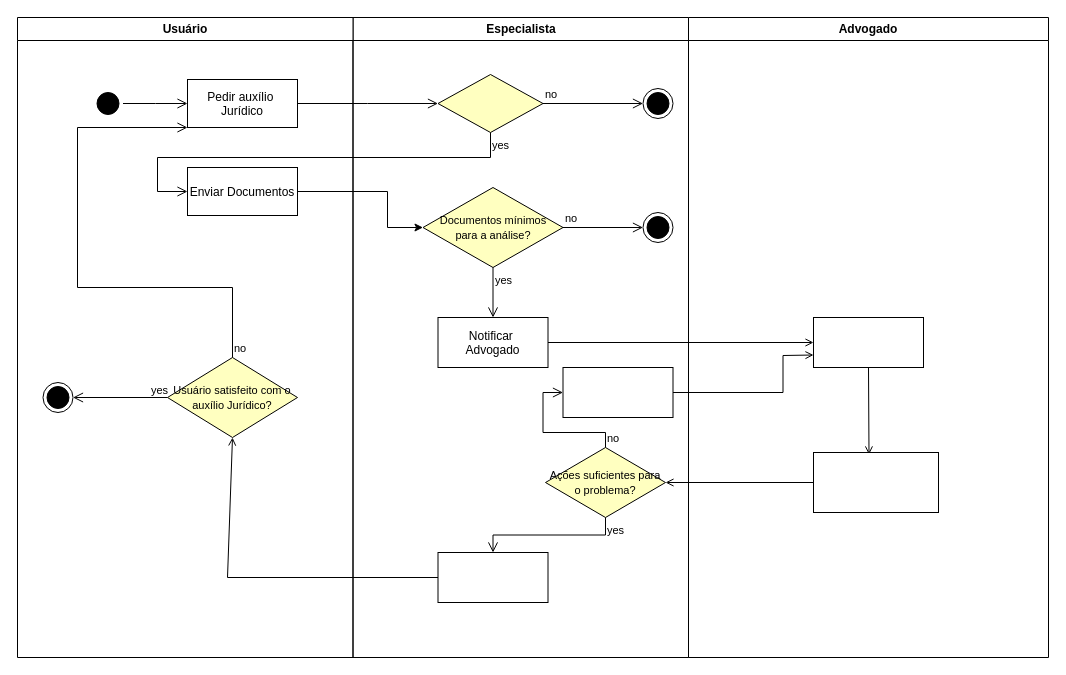
Image size: 1066x675. Some labels were removed from this diagram. Here are the shapes that lost their labels. From the top down, the centre of each, then its label:
At point 490,103: "Problema Válido?".
At point 868,342: "Recolher relatório / documentos".
At point 617,392: "Notificar outro Advogado".
At point 875,482: "Tomada de ações legais para solucionar o problema".
At point 492,577: "Envio dos resultados".
